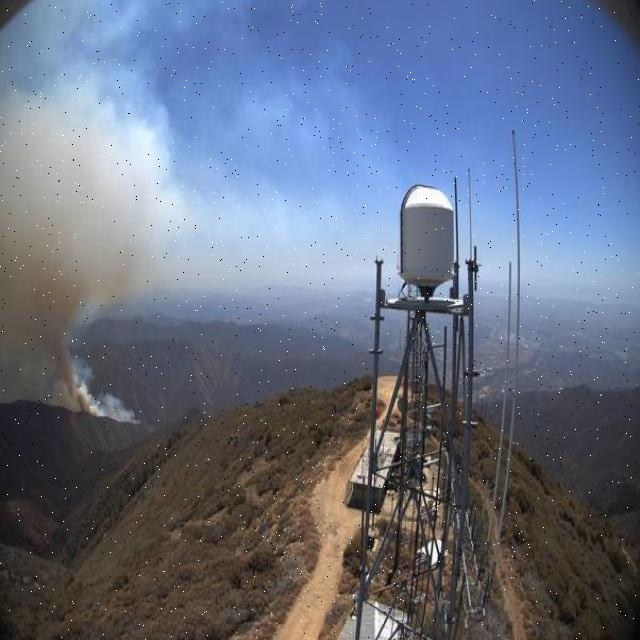smoke: (0, 68, 145, 427)
